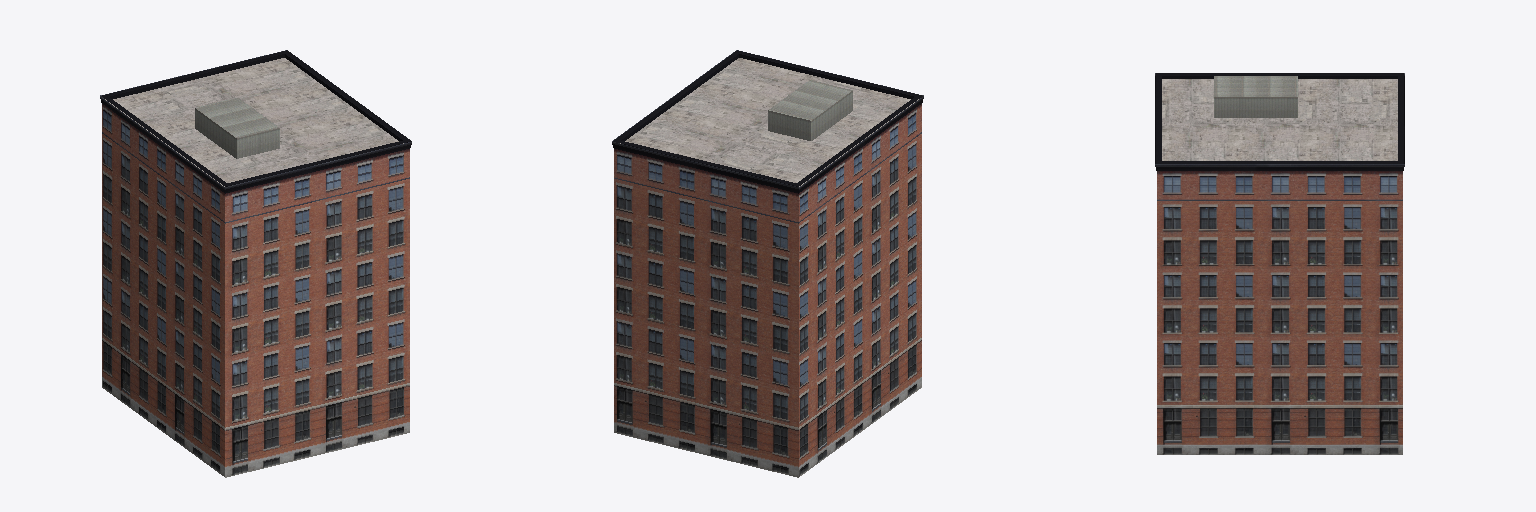
3 renders of one model, left to right at view 1: azimuth 30°, elevation 25°; view 2: azimuth 150°, elevation 25°; view 3: azimuth 270°, elevation 25°, orthographic.
Visible parts, largest first — view 1: building_42; view 2: building_42; view 3: building_42.
Part boxes in pixels (x1,y1,x2,y2): building_42: (100, 50, 411, 477); building_42: (612, 50, 923, 477); building_42: (1155, 73, 1404, 454).
Size of the model in its own units: 59.05 by 92.87 by 68.2.
Materials: 1 (1 with a texture image).